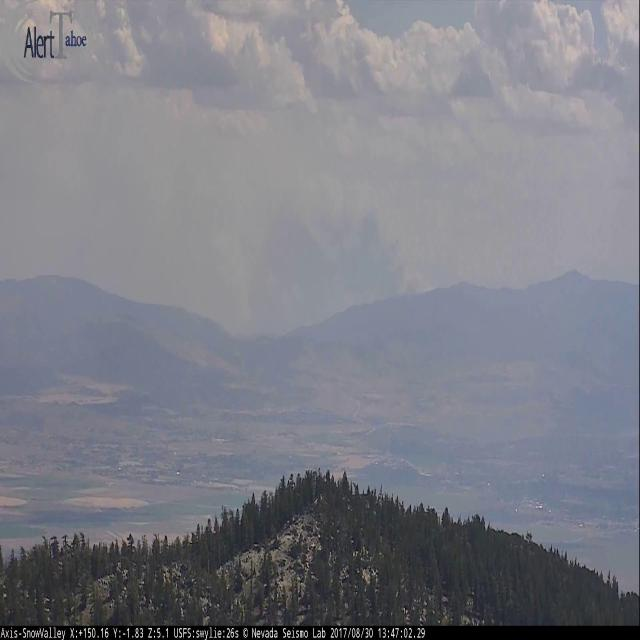smoke: (221, 197, 440, 341)
